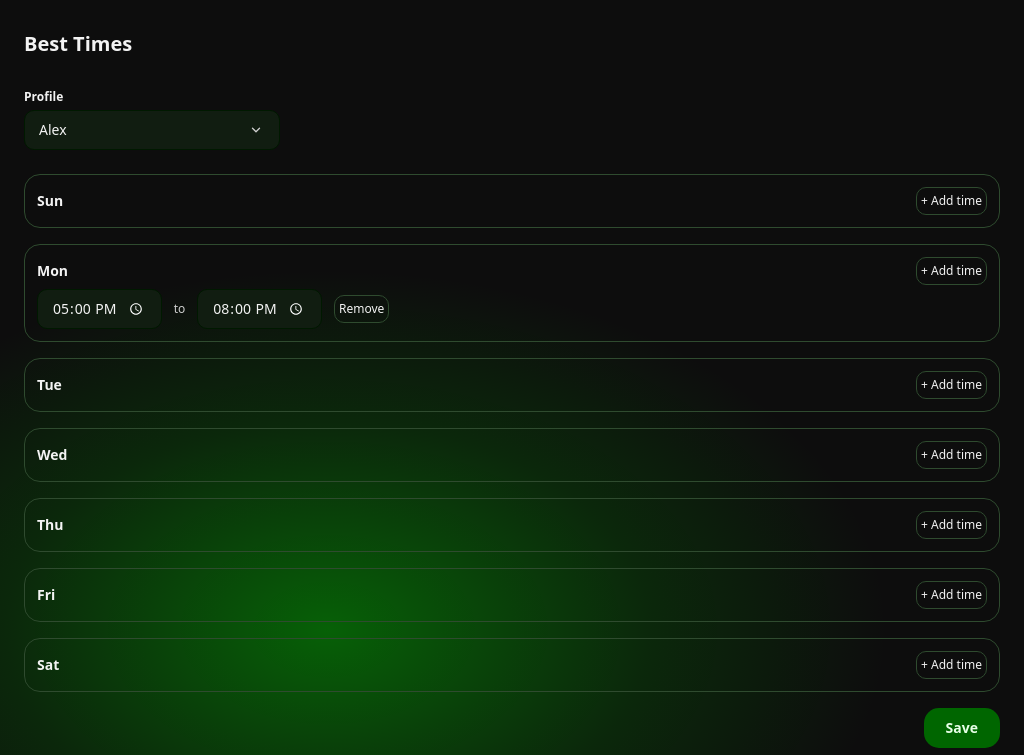
Scenario: AvailabilityPage (player) › saves edits via PUT /player-profiles/:id/availability and shows a success message
Replace the text in the time field named "mon start" with "18:00". click: {"x": 99, "y": 309}
box: top-left (37, 289), bottom-right (162, 329)
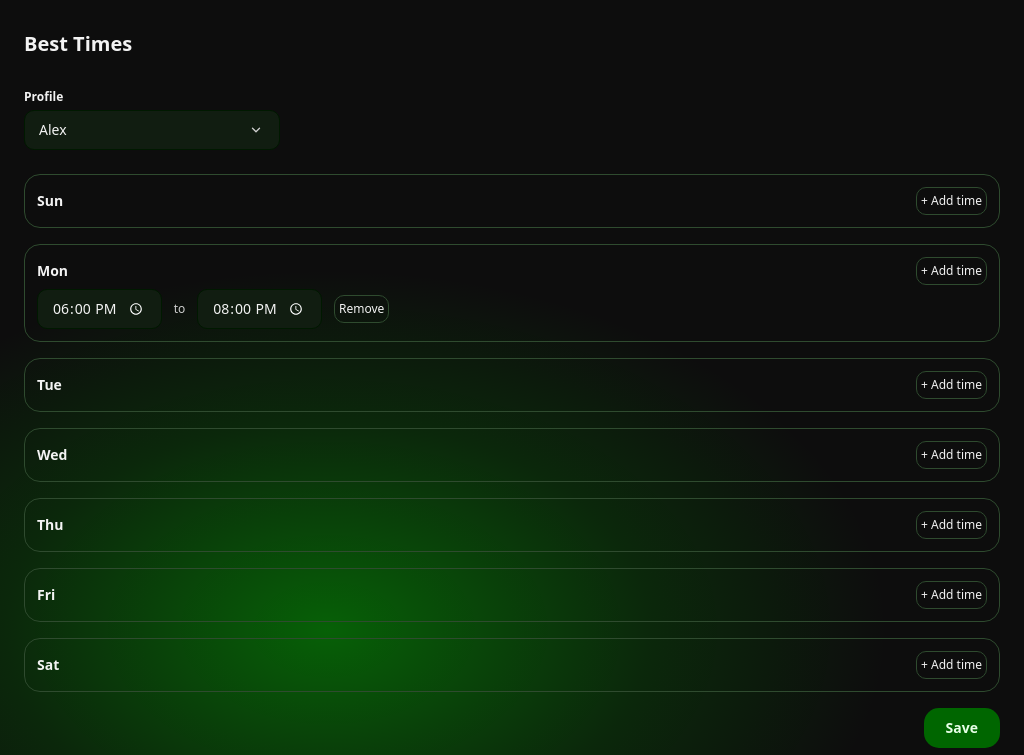
Click the button "Save". click: {"x": 962, "y": 728}
box: top-left (924, 708), bottom-right (1000, 748)
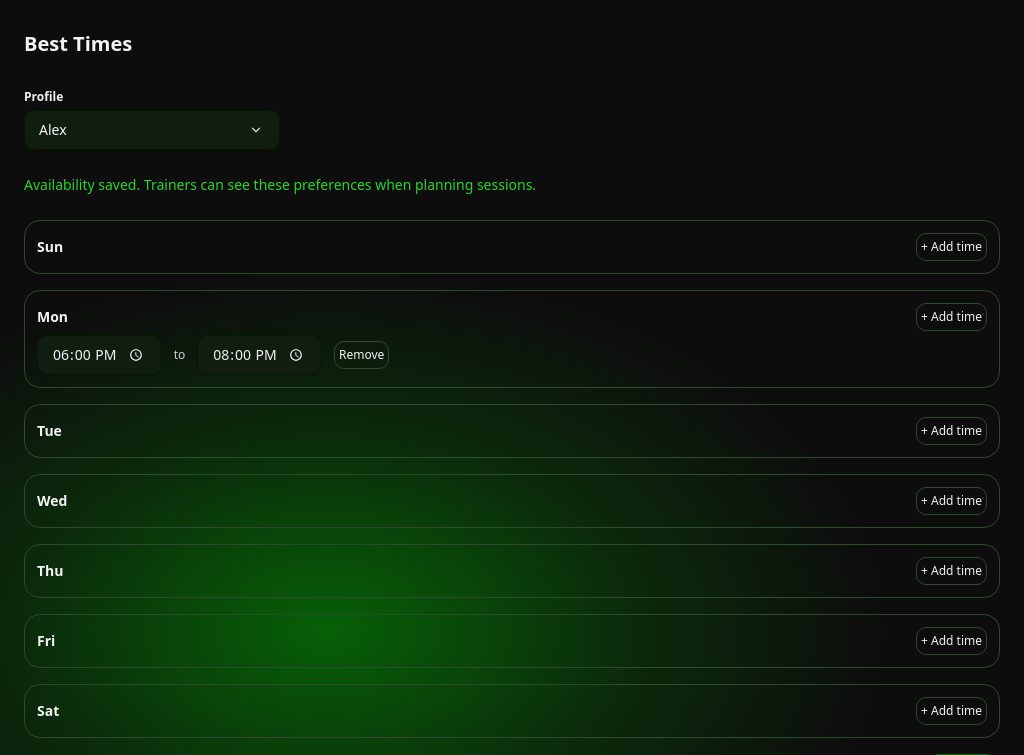
Result: the message reads "Availability saved. Trainers can see these preferences when planning sessions." at top-left (24, 175), bottom-right (536, 194)
